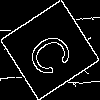C: (25, 25, 82, 81)
